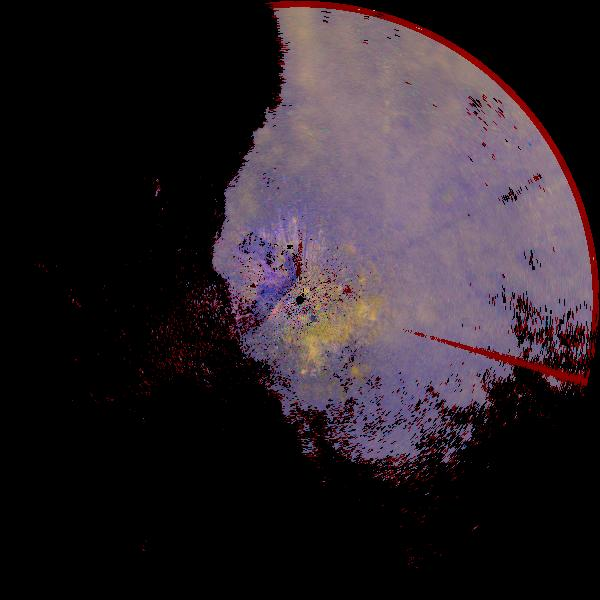roost: (261, 331, 342, 412)
